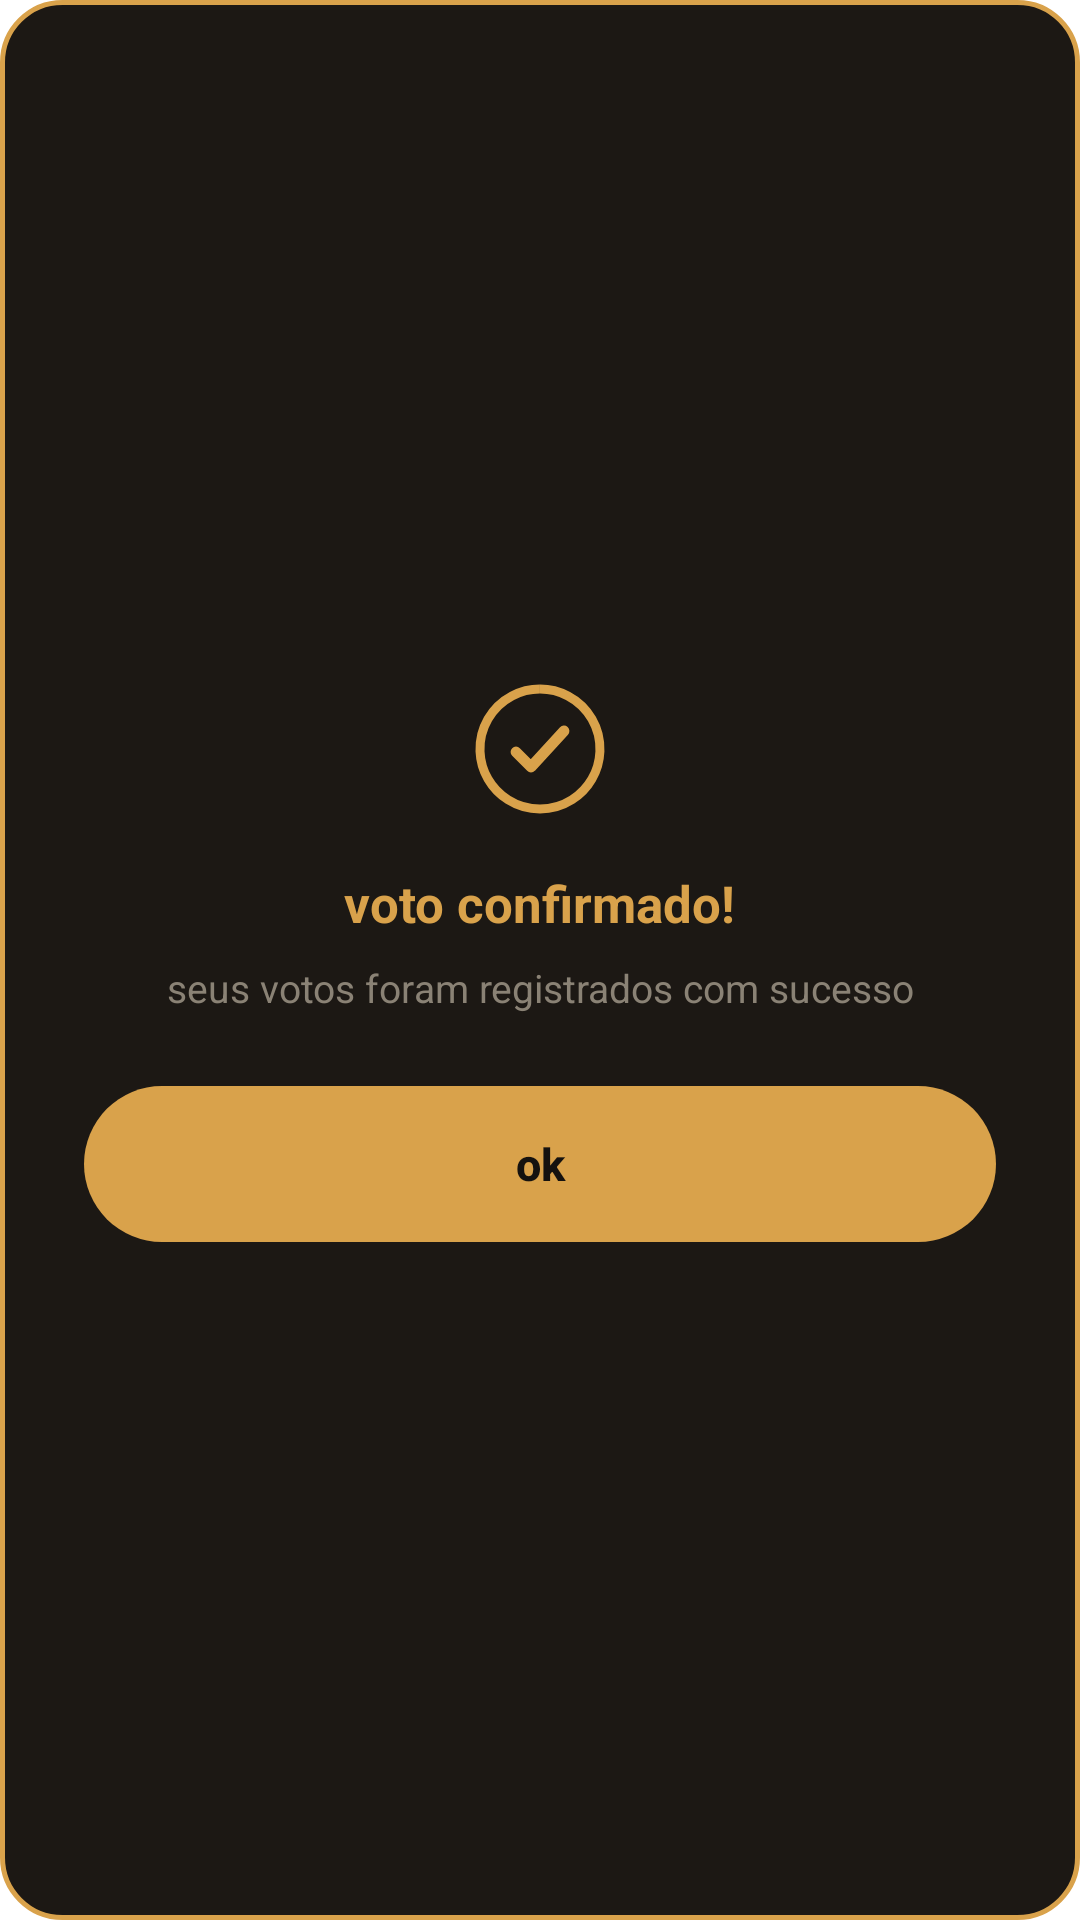

Named icons in this screenshot (1080 × 1920) and their centers, (x=x, y=y):
check circle: (x=540, y=749)
